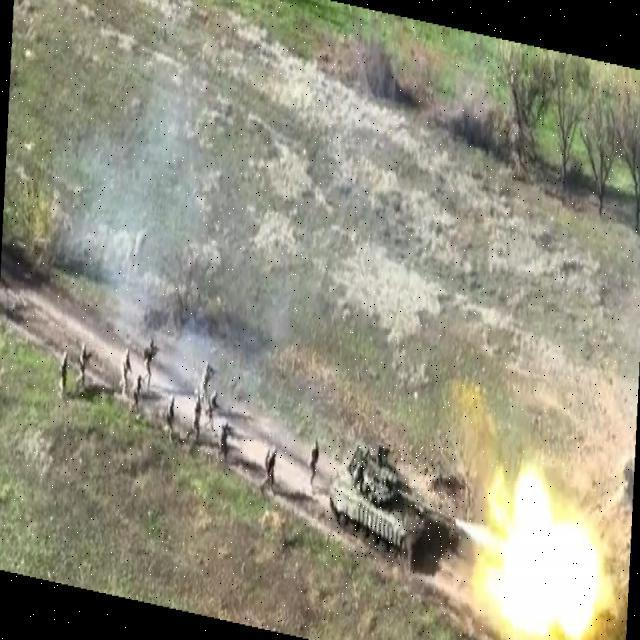MIL_MBT: (326, 445, 455, 565)
